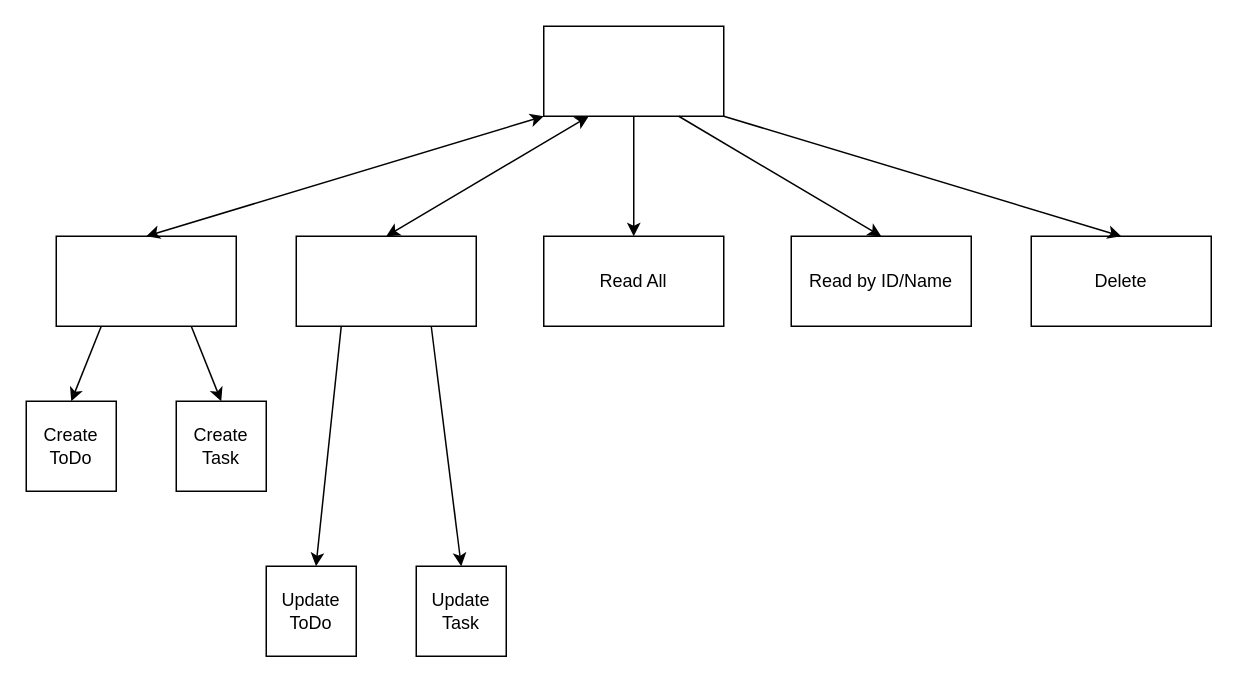
This 1238x683 diagram has some shape labels left out. The shapes that lost their labels are listed below. From the top down, each one's box as (x1, y1, x2, y2) in pixels, then its label:
(542, 25, 724, 116): Main (index.html)
(55, 235, 236, 326): Create (create.html)
(295, 235, 476, 326): Update (updarte.html)
